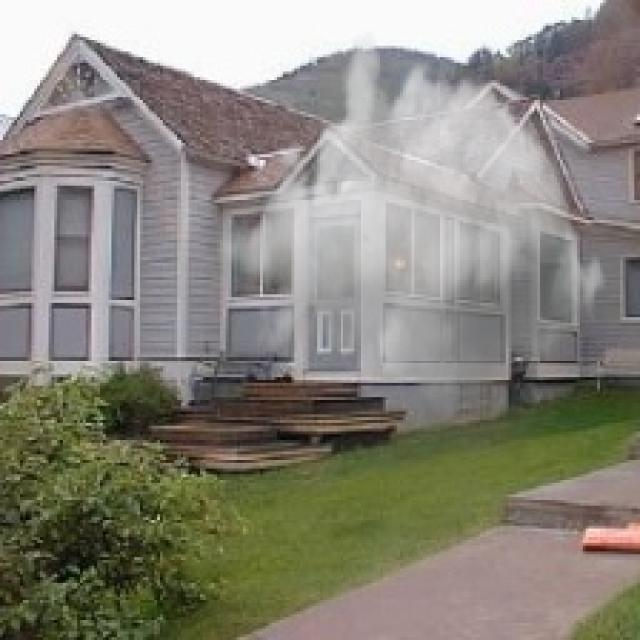Smoke: (214, 31, 609, 426)
